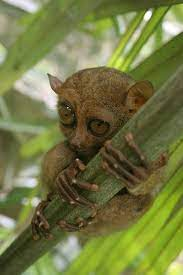tarsier: (39, 63, 164, 235)
